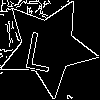L: (23, 22, 59, 73)
